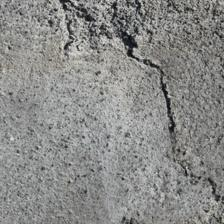Crack: (57, 59, 124, 161), (7, 24, 106, 65)
